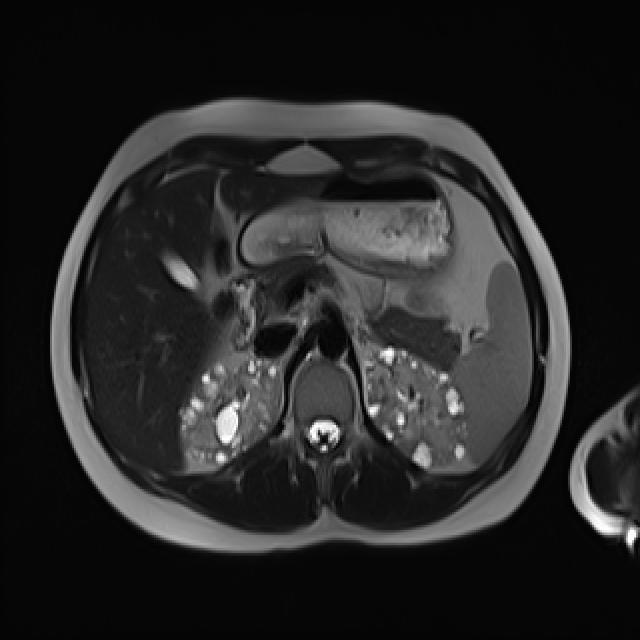sag: (177, 355, 283, 465)
sol: (362, 345, 469, 473)
